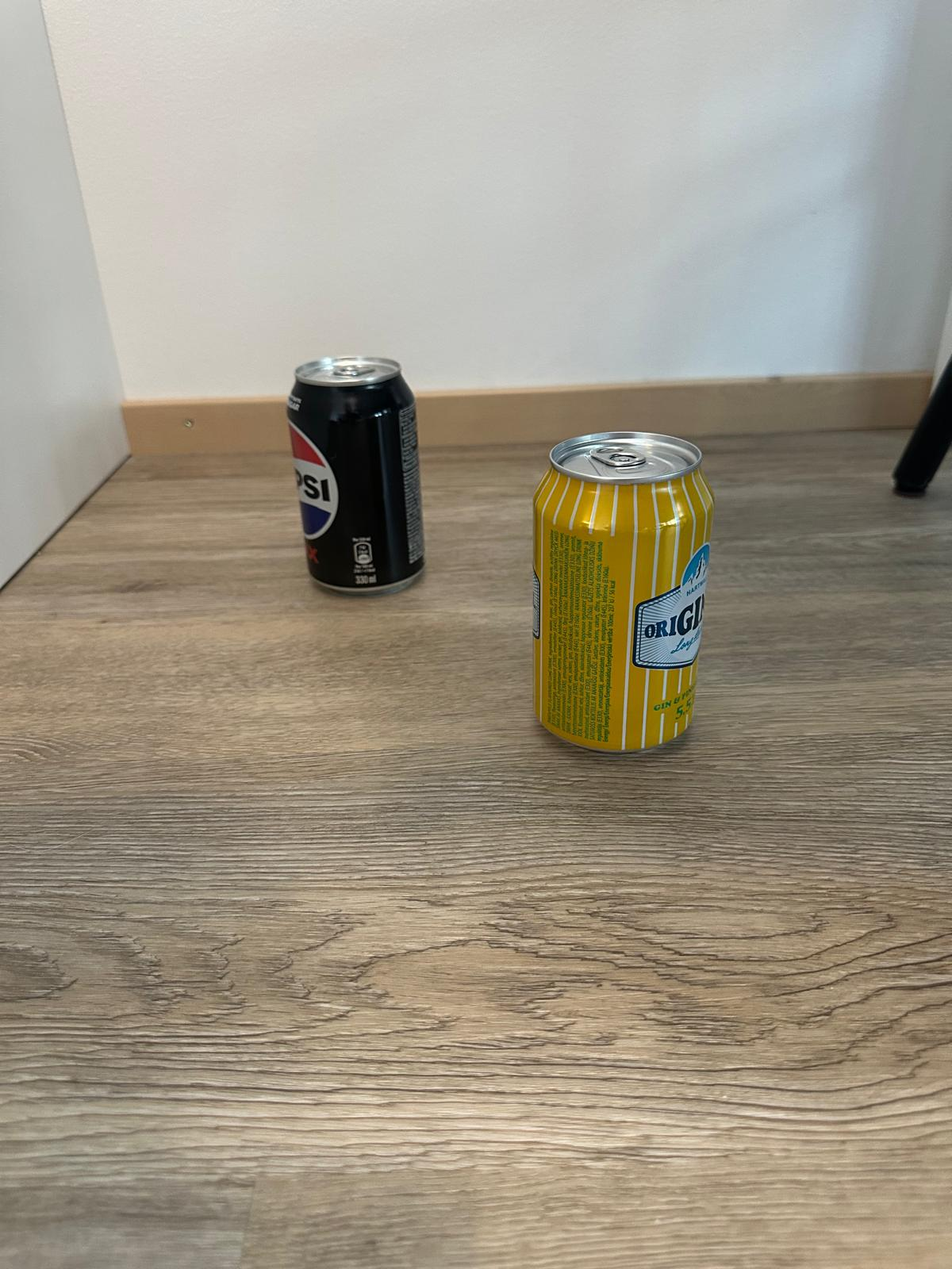Pantburk: (530, 431, 717, 755), (286, 356, 426, 598)
